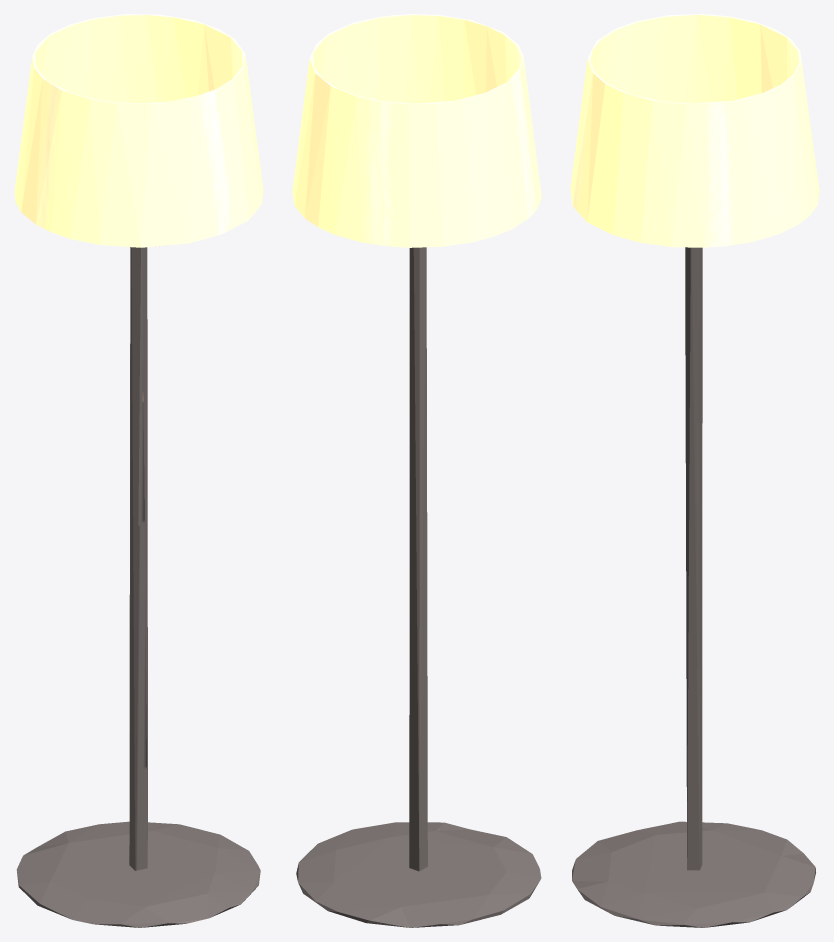
The model's file is LamparaPiso 1.fbx.
The picture shows the model from 3 angles, left to right: view 1: azimuth 30°, elevation 25°; view 2: azimuth 150°, elevation 25°; view 3: azimuth 270°, elevation 25°; orthographic projection.
Parts seen in each view (by area): view 1: Lampara palo; view 2: Lampara palo; view 3: Lampara palo.
Boxes of the visible parts, x1,y1,x2,y2 form: Lampara palo: (14, 14, 263, 927); Lampara palo: (292, 14, 541, 927); Lampara palo: (570, 14, 819, 927).
Bounding box in the file's own units: 187 × 675 × 187.
